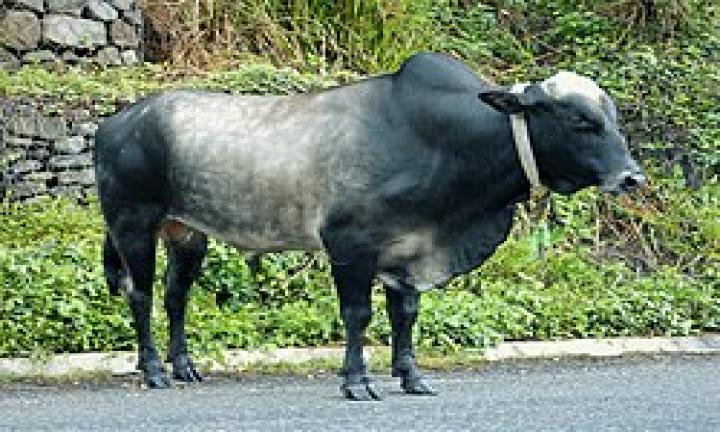Brahman: (92, 53, 642, 399)
